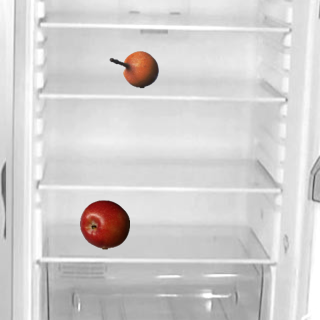Apple Braeburn: (79, 199, 129, 249)
Granadilla: (108, 44, 158, 94)
